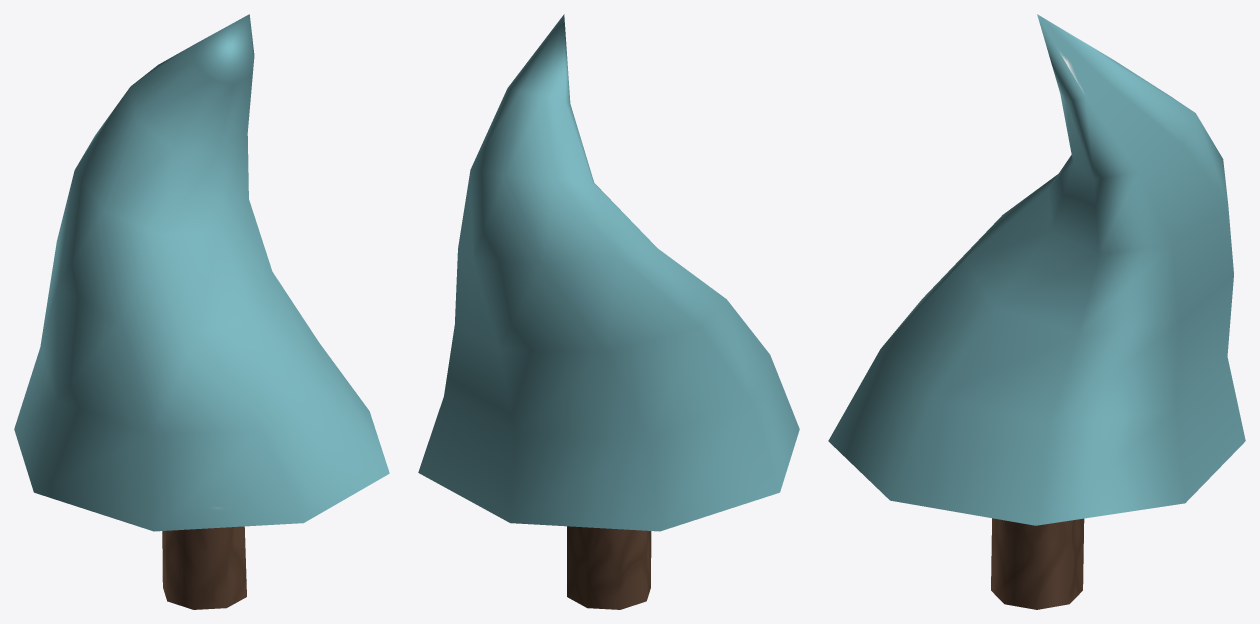
Rendered from TreeB3.fbx.
The picture shows the model from 3 angles, left to right: view 1: azimuth 30°, elevation 25°; view 2: azimuth 150°, elevation 25°; view 3: azimuth 270°, elevation 25°; orthographic projection. The views are drawn at different scales.
Visible parts, largest first — view 1: pCone1; view 2: pCone1; view 3: pCone1.
Boxes of the visible parts, <box> form: pCone1: <box>14,14,389,609</box>; pCone1: <box>418,14,799,609</box>; pCone1: <box>828,14,1245,609</box>.
Bounding box in the file's own units: 5.88 × 9.51 × 6.
1 material, 1 textured.
